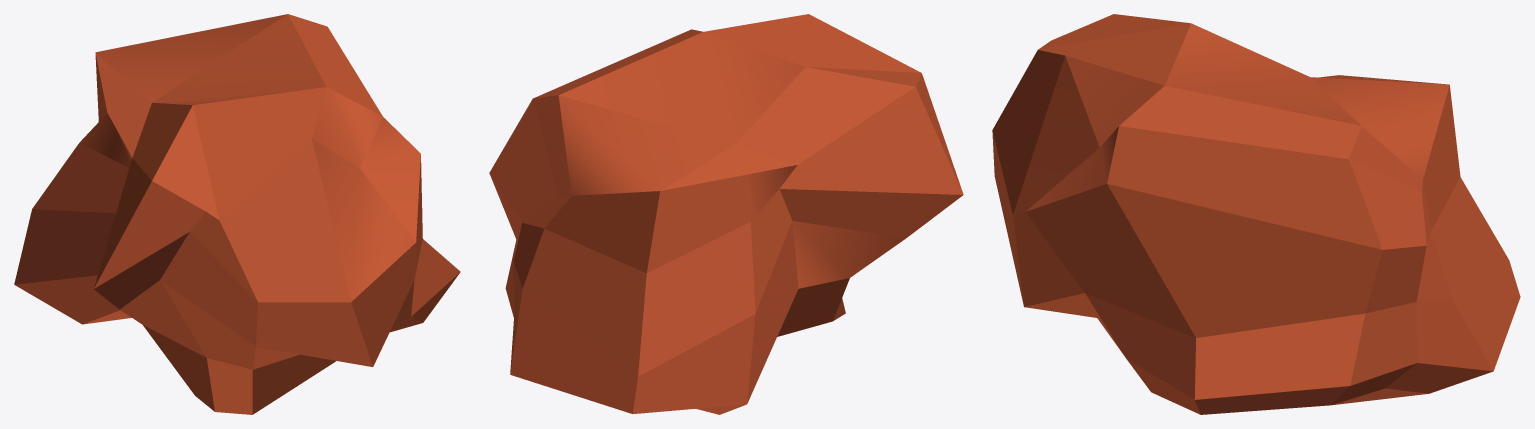
File: Rock_04.fbx
The picture shows the model from 3 angles, left to right: view 1: azimuth 30°, elevation 25°; view 2: azimuth 150°, elevation 25°; view 3: azimuth 270°, elevation 25°; orthographic projection. The views are drawn at different scales.
Visible parts, largest first — view 1: Rock_04; view 2: Rock_04; view 3: Rock_04.
Part boxes in pixels (bbox=[...]): Rock_04: bbox=[14, 14, 460, 414]; Rock_04: bbox=[489, 14, 963, 414]; Rock_04: bbox=[992, 14, 1520, 414].
Size of the model in its own units: 408 by 287 by 450.
Materials: 1 (1 with a texture image).
